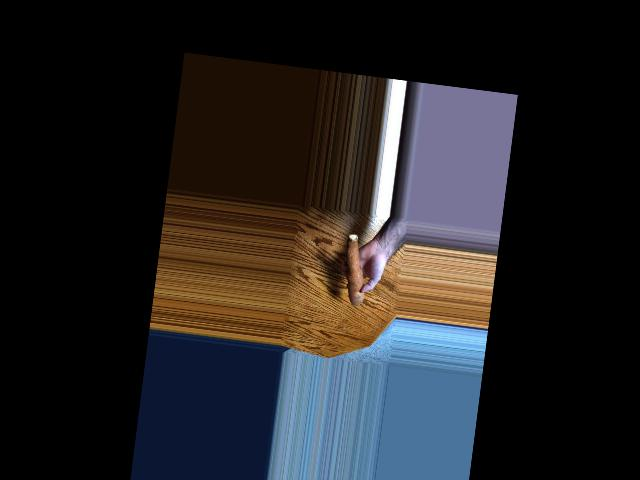sweet_potato: (338, 235, 368, 310)
